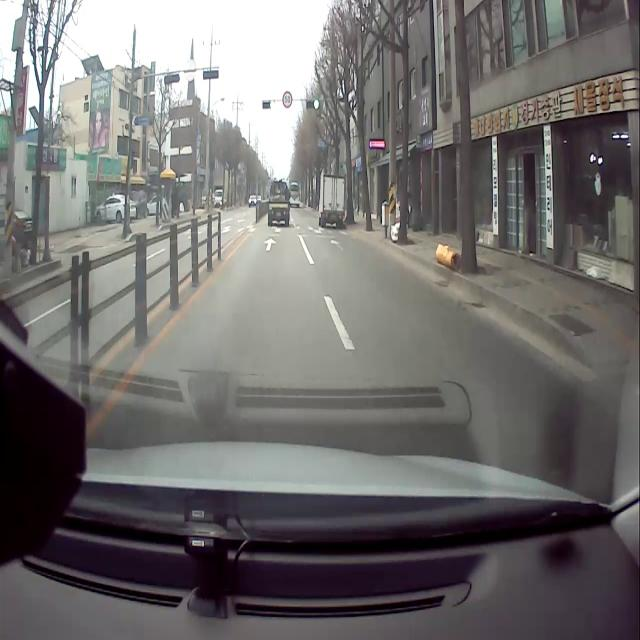Green Light: (314, 98, 320, 110), (270, 99, 276, 110)
